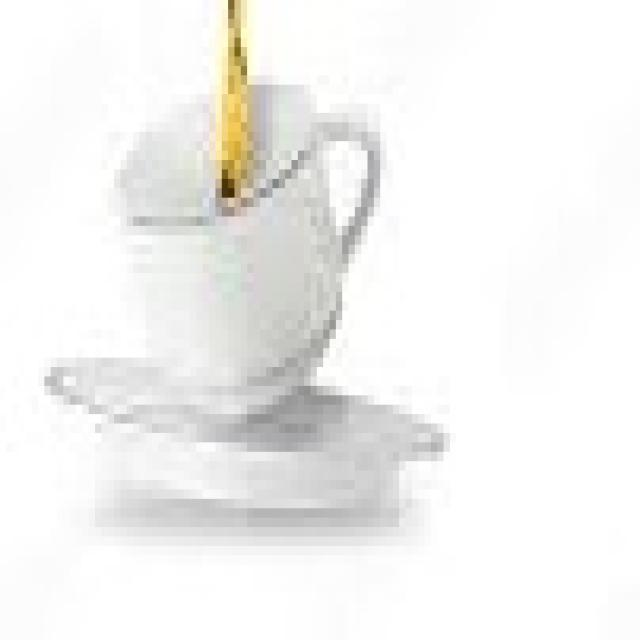taza: (90, 72, 389, 416)
